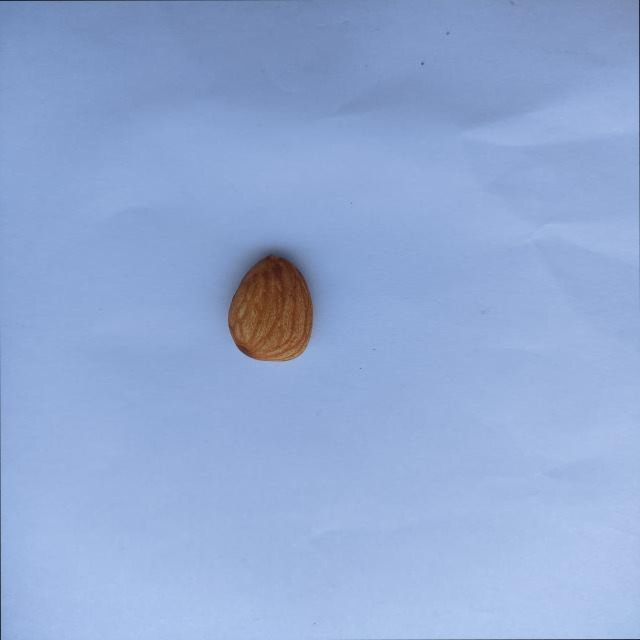grade1: (222, 247, 323, 368)
